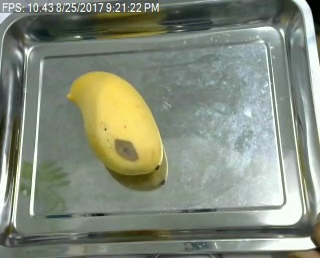Mango: (64, 66, 166, 180)
